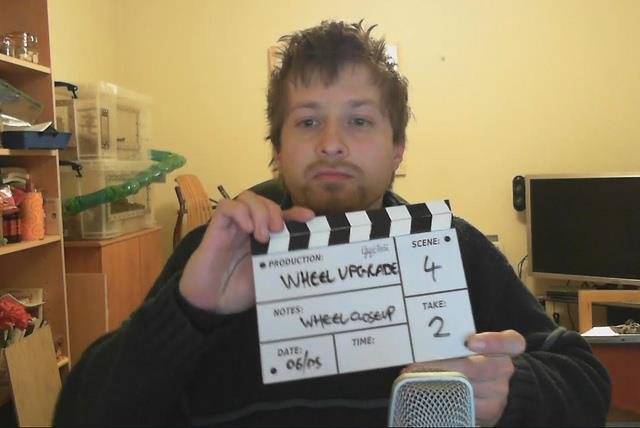clapperboard: (256, 202, 461, 375)
